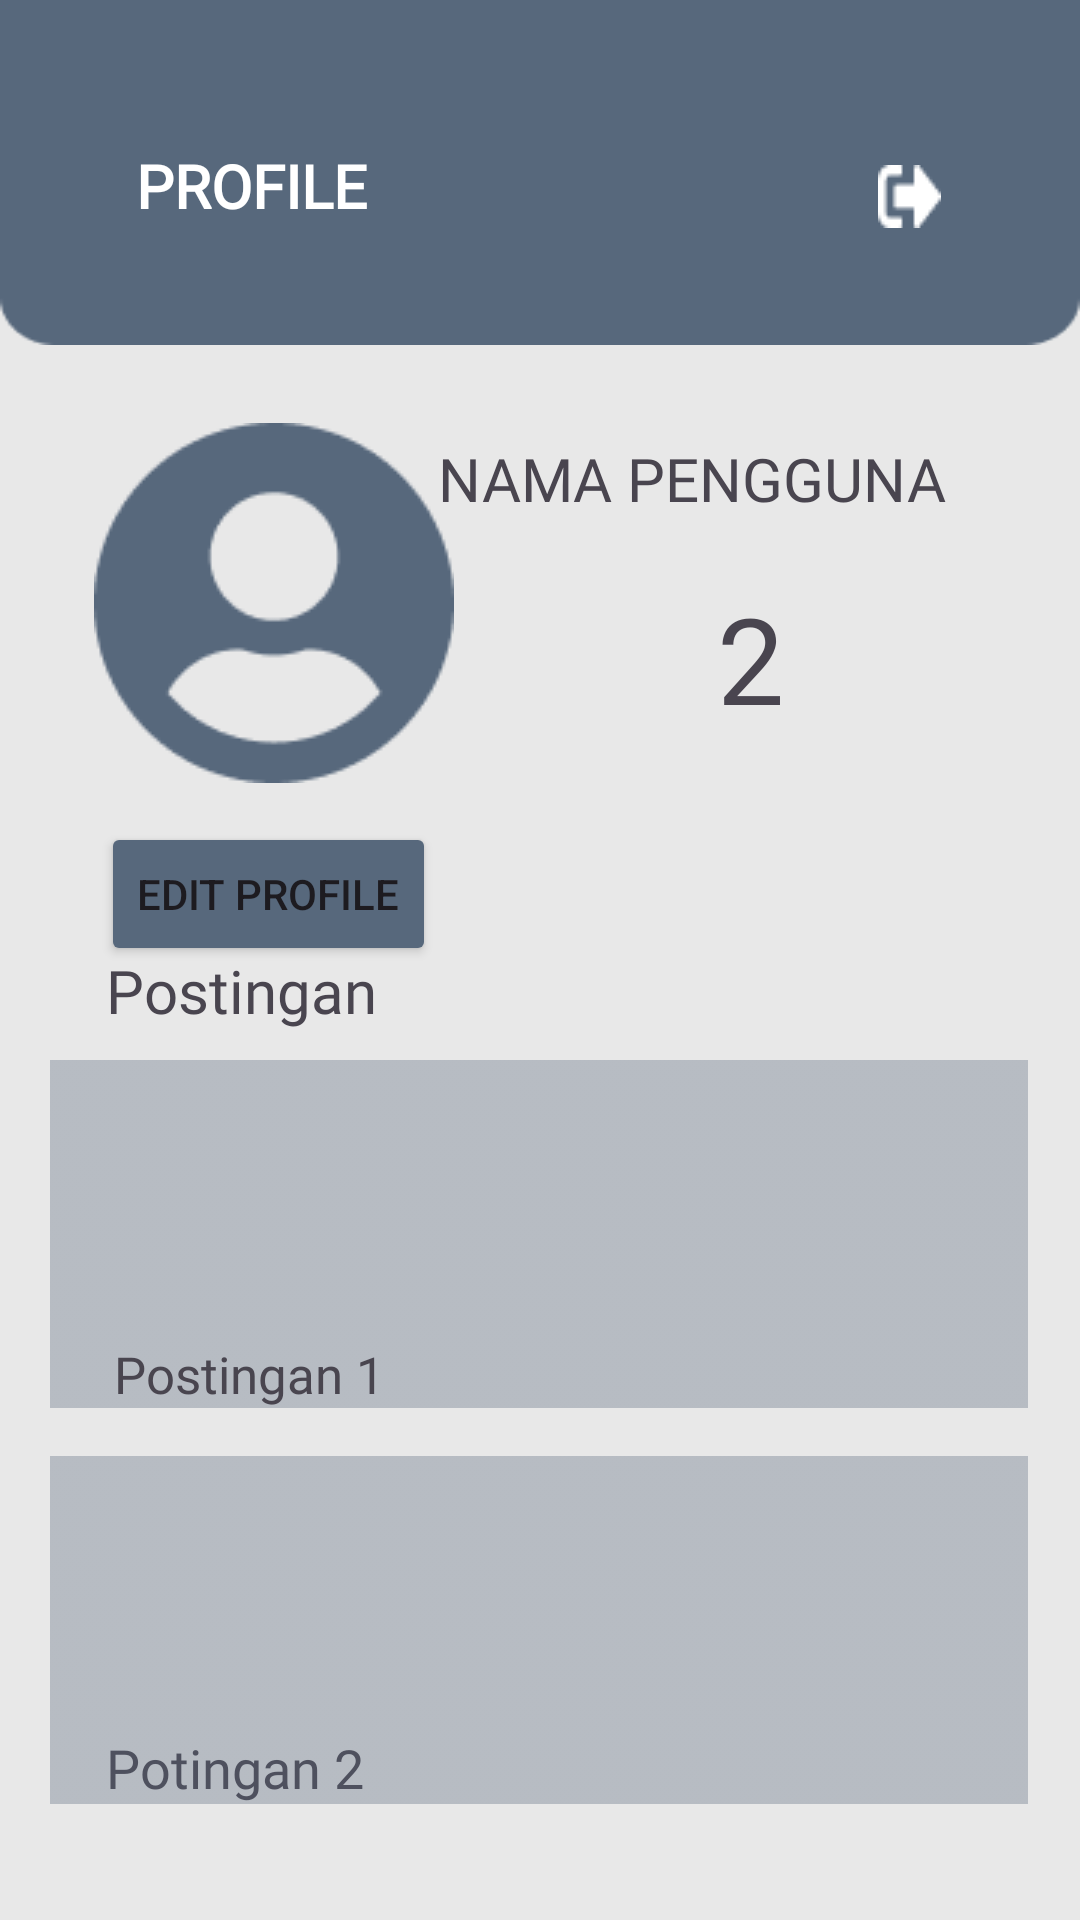

Where icons sit on this 1080w x 1920h app screen, as (x1, y1, x2, y2):
keluar: (878, 165, 941, 228)
